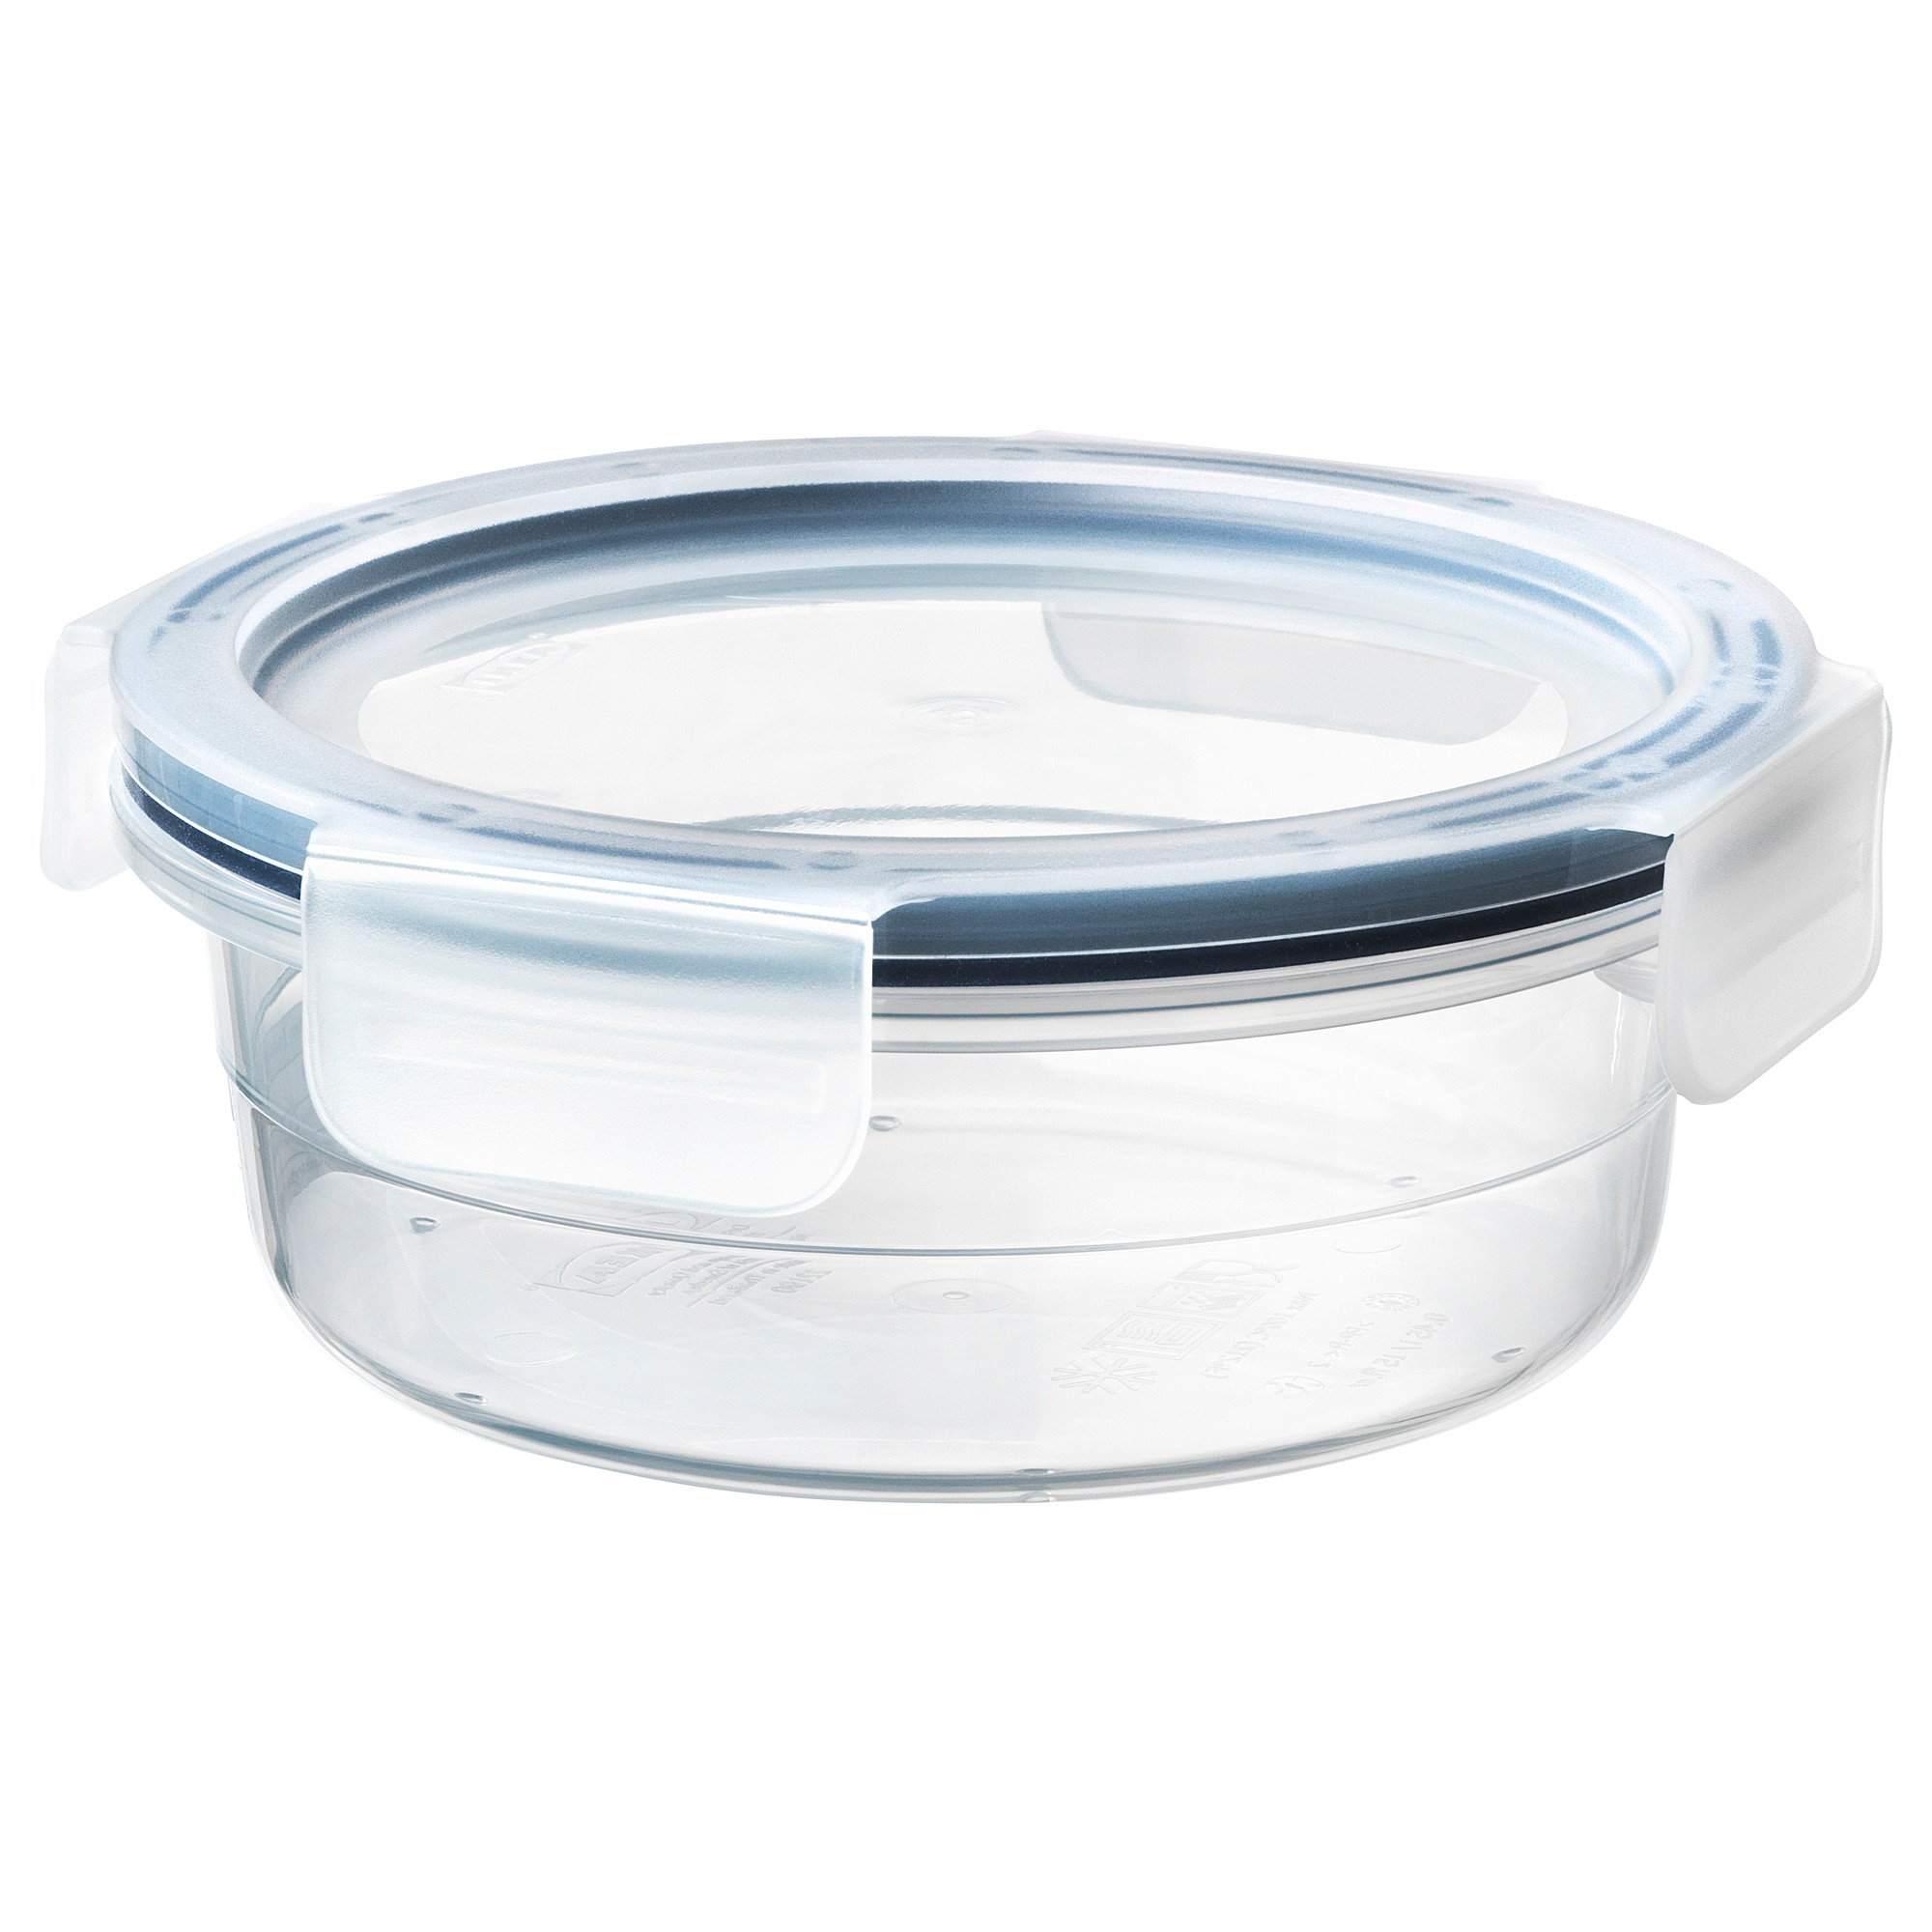Rec_Plastic: (108, 230, 1851, 1520)
